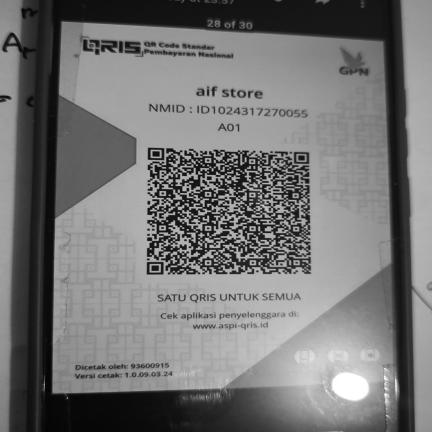Cara Pakai QRIS: (279, 336, 385, 384)
Cek Aplikasi Penyelenggara: (152, 308, 311, 334)
Dicetak Oleh: (71, 360, 174, 371)
Logo GPN: (332, 43, 375, 82)
Logo dan deskripsi QRIS: (72, 32, 243, 66)
Nama Merchant: (189, 83, 272, 102)
National Merchant ID: (144, 99, 314, 123)
QR Code: (139, 143, 316, 278)
Slogan: (152, 289, 309, 306)
Terminal ID: (210, 120, 251, 135)
Versi Cetak: (71, 370, 179, 381)
